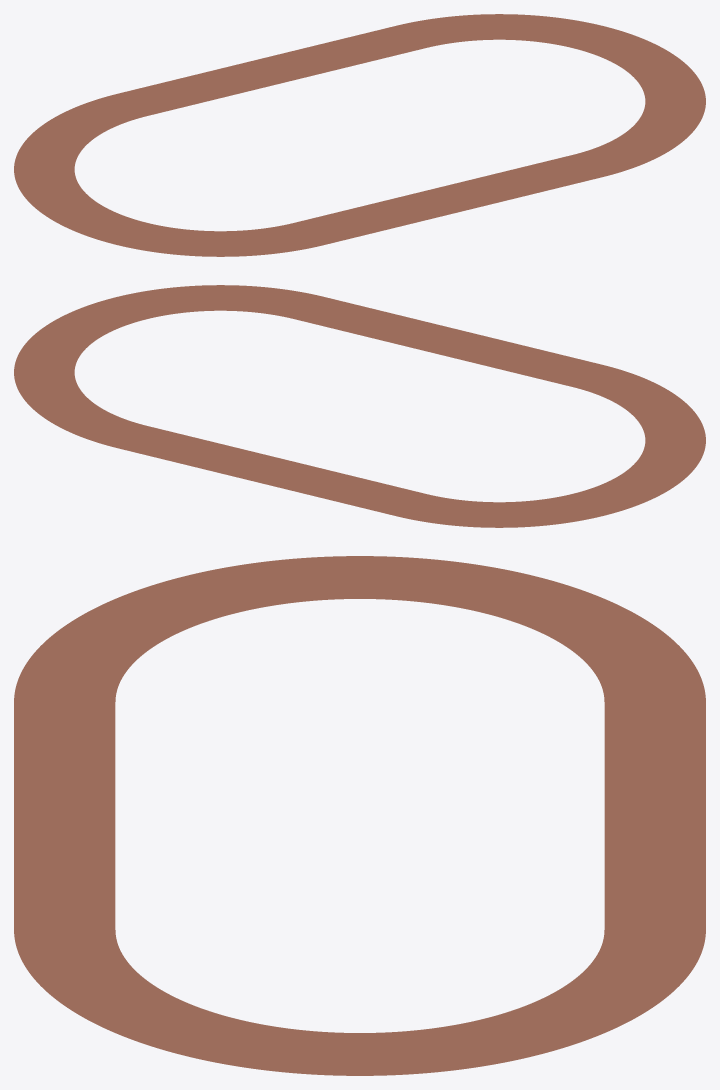
Rendered from d01_sports_surface_01.glb.
3 renders of one model, top to bottom at view 1: azimuth 30°, elevation 25°; view 2: azimuth 150°, elevation 25°; view 3: azimuth 270°, elevation 25°, orthographic. The views are drawn at different scales.
Visible parts, largest first — view 1: D01SportsSurface01_Mesh; view 2: D01SportsSurface01_Mesh; view 3: D01SportsSurface01_Mesh.
Part boxes in pixels (box(x1,y1,x2,y2)): D01SportsSurface01_Mesh: box(14, 14, 705, 256); D01SportsSurface01_Mesh: box(14, 285, 705, 527); D01SportsSurface01_Mesh: box(14, 556, 705, 1075).
Bounding box in the file's own units: 80 × 0 × 45.
